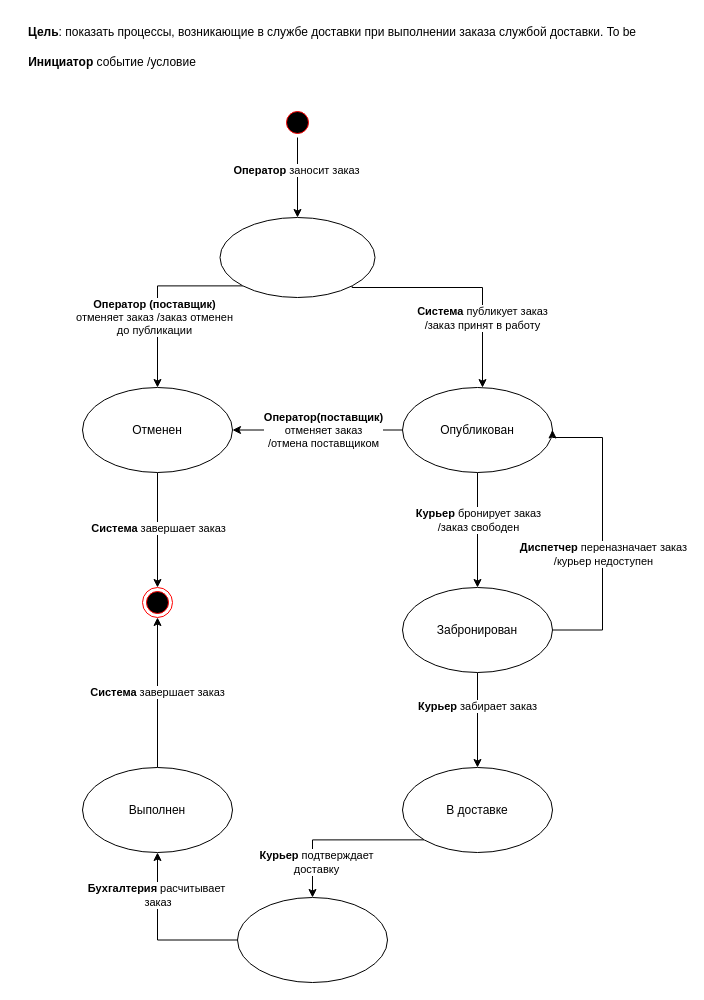
Image size: 704x1000. Some labels were removed from this diagram. The centre of each missing label's shape, as x and y in pixels:
"Доставлен" goes at [312,939].
"Создан" goes at [297,257].
